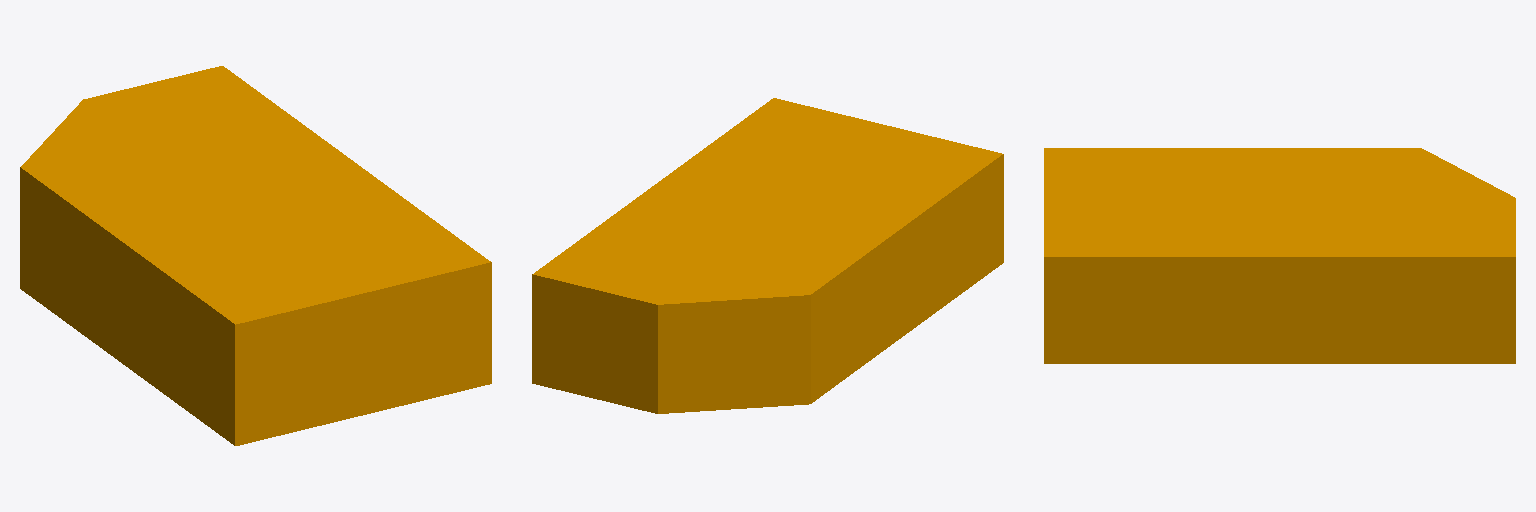
robot.urdf — oil_bottle_simple_new.off:
<?xml version="1.0"?>
<robot name="oil_bottle_simple_new.off">
	<link name="oil_bottle_simple_new.off">
		<inertial>
			<!--origin xyz="0 0 0" rpy="0 0 0" /-->
			<mass value="0.5" />
			<!--inertia ixx="0.000360" ixy="0" ixz="0" iyy="0.0000615" iyz="0" izz="0.00036" /-->
		</inertial>
    		<visual>
	      		<!--origin rpy="0 0 0" xyz="0 0 0"/-->
      			<geometry>
        			<mesh filename="oil_bottle_simple_new.off.obj"/>
      			</geometry>
         	</visual>
    		<collision>
      			<!--origin rpy="0 0 0" xyz="0 0 0"/-->
      			<geometry>
        			<mesh filename="oil_bottle_simple_new.off.obj"/>
      			</geometry>
    		</collision>
	</link>
</robot>

--- Render facts (derived) ---
The picture shows the robot from 3 angles, left to right: view 1: azimuth 30°, elevation 25°; view 2: azimuth 150°, elevation 25°; view 3: azimuth 270°, elevation 25°; orthographic projection.
Model oil_bottle_simple_new.off with 1 links and 0 joints (none), rooted at oil_bottle_simple_new.off, posed every joint at zero.
Visible links, largest first — view 1: oil_bottle_simple_new.off; view 2: oil_bottle_simple_new.off; view 3: oil_bottle_simple_new.off.
Boxes of the visible links, x1,y1,x2,y2 form: oil_bottle_simple_new.off: (20,66,491,445); oil_bottle_simple_new.off: (532,98,1003,413); oil_bottle_simple_new.off: (1044,148,1515,363).
Size in the robot's own frame: 110 by 200 by 50 metres.
Meshes: 1 distinct files referenced, 1 mesh visuals loaded (1 OBJ).